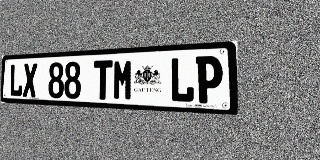8: (64, 61, 81, 99), (48, 62, 64, 98)
L: (170, 57, 195, 103), (9, 64, 23, 97)
M: (113, 59, 133, 101)
P: (195, 55, 223, 104)
T: (93, 60, 113, 100)
X: (23, 63, 37, 97)
